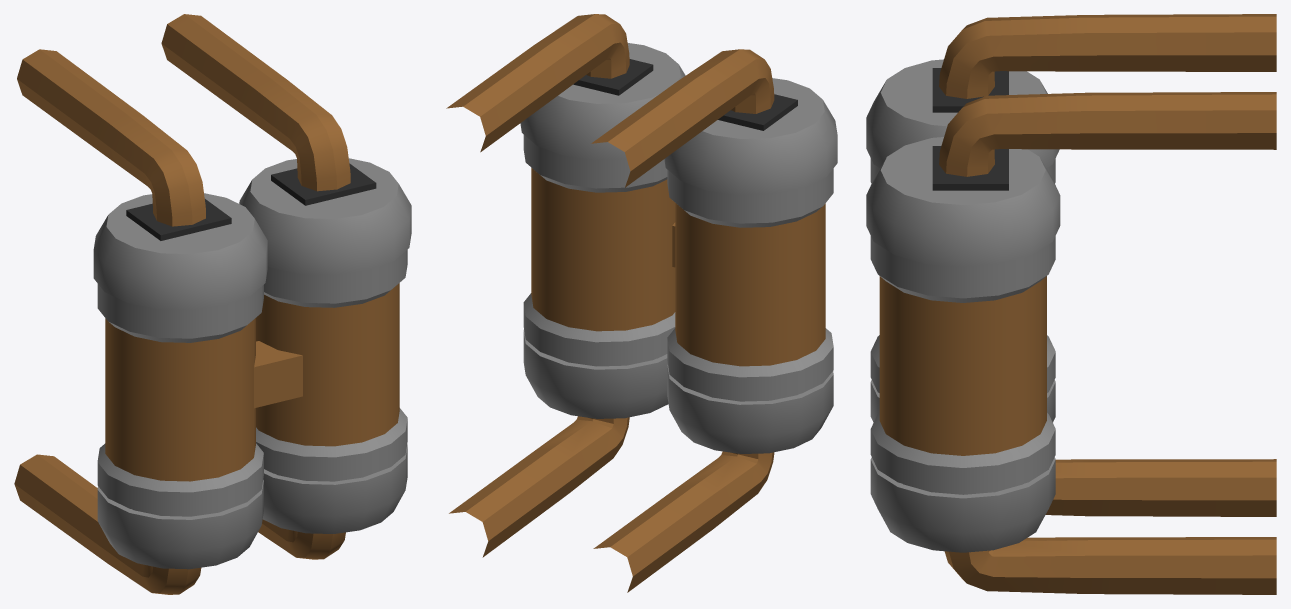
File: quaternius-cyberpunk-tank.glb
3 renders of one model, left to right at view 1: azimuth 30°, elevation 25°; view 2: azimuth 150°, elevation 25°; view 3: azimuth 270°, elevation 25°, orthographic. The views are drawn at different scales.
Visible parts, largest first — view 1: Tank; view 2: Tank; view 3: Tank.
Boxes of the visible parts, x1,y1,x2,y2 form: Tank: (14, 14, 411, 594); Tank: (446, 14, 837, 592); Tank: (866, 14, 1276, 594).
Size of the model in its own units: 0.569 by 0.831 by 0.6189.
